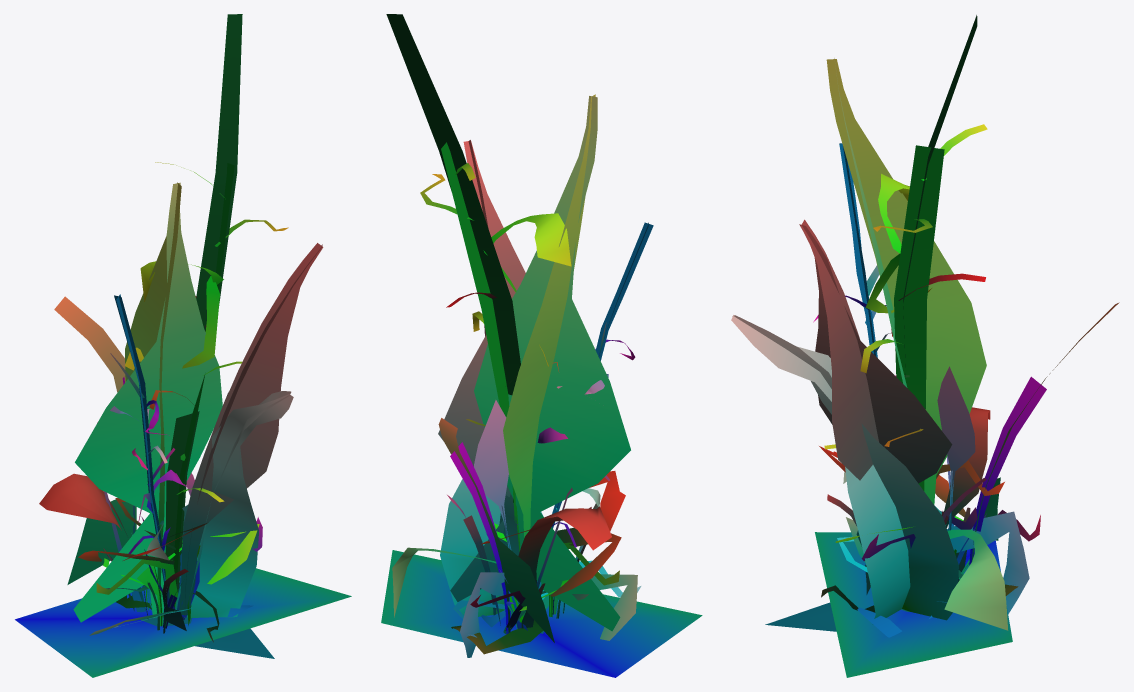
Rendered from Dry_Grass_tbbqejqr_Mid_tbbqejqr_VarA_LOD0.fbx.
3 views of the same model, side by side, from view 1: azimuth 30°, elevation 25°; view 2: azimuth 150°, elevation 25°; view 3: azimuth 270°, elevation 25° (orthographic). The views are drawn at different scales.
Parts seen in each view (by area): view 1: _76b1_VarA_LOD1; view 2: _76b1_VarA_LOD1; view 3: _76b1_VarA_LOD1.
Boxes of the visible parts, x1=… form: _76b1_VarA_LOD1: x1=15, y1=14, x2=351, y2=677; _76b1_VarA_LOD1: x1=381, y1=14, x2=702, y2=677; _76b1_VarA_LOD1: x1=731, y1=15, x2=1119, y2=677.
Size of the model in its own units: 34.08 by 68.78 by 37.15.
